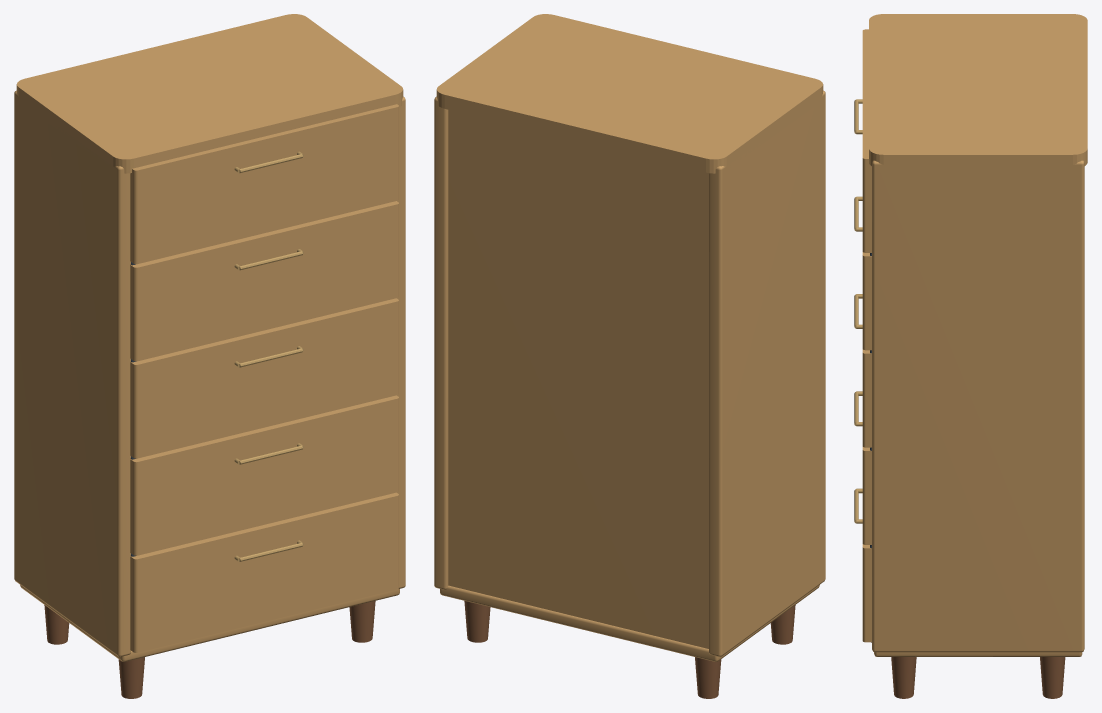
File: designed-dresser-tall.glb
3 views of the same model, side by side, from view 1: azimuth 30°, elevation 25°; view 2: azimuth 150°, elevation 25°; view 3: azimuth 270°, elevation 25° (orthographic).
Parts seen in each view (by area): view 1: designed-dresser-tall authored assembly; view 2: designed-dresser-tall authored assembly; view 3: designed-dresser-tall authored assembly.
Part boxes in pixels (x1,y1,x2,y2): designed-dresser-tall authored assembly: (14,14,405,698); designed-dresser-tall authored assembly: (434,14,825,698); designed-dresser-tall authored assembly: (854,14,1087,698).
Bounding box in the file's own units: 0.6 × 1.1 × 0.42.
